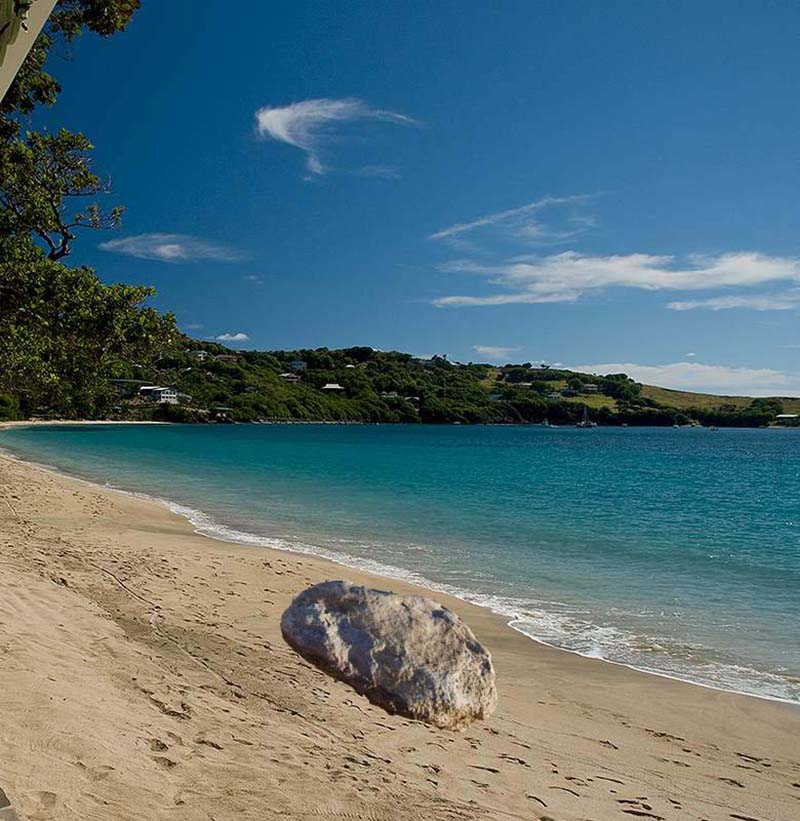Rocks: (273, 572, 504, 740)
